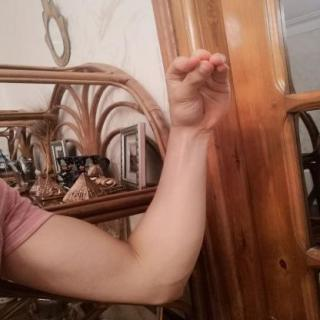HA: (152, 39, 246, 140)
